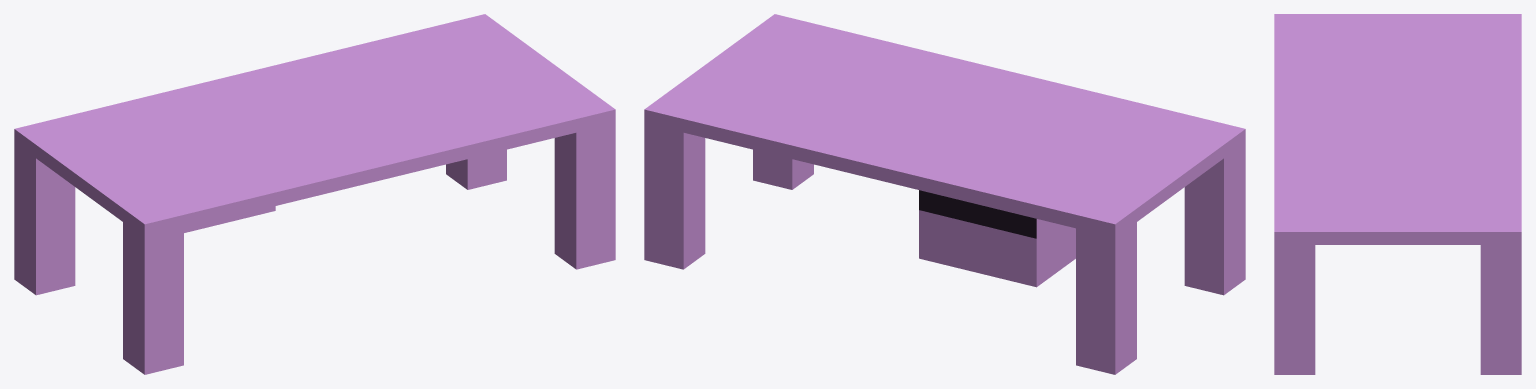
File: desk.DAE
3 views of the same model, side by side, from view 1: azimuth 30°, elevation 25°; view 2: azimuth 150°, elevation 25°; view 3: azimuth 270°, elevation 25° (orthographic). The views are drawn at different scales.
Visible parts, largest first — view 1: Box001; view 2: Box001; view 3: Box001.
Part boxes in pixels (x1,y1,x2,y2): Box001: (14,14,615,374); Box001: (644,14,1245,374); Box001: (1274,14,1521,374).
Size of the model in its own units: 4.32 by 2.07 by 1.32.
